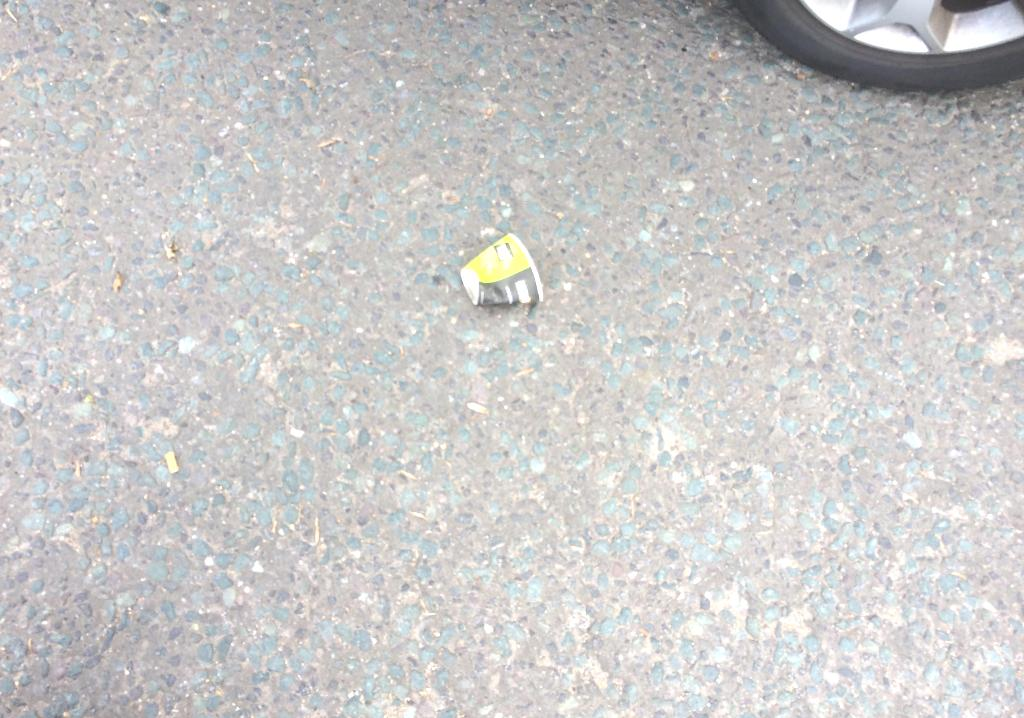garbage: (451, 216, 543, 327)
